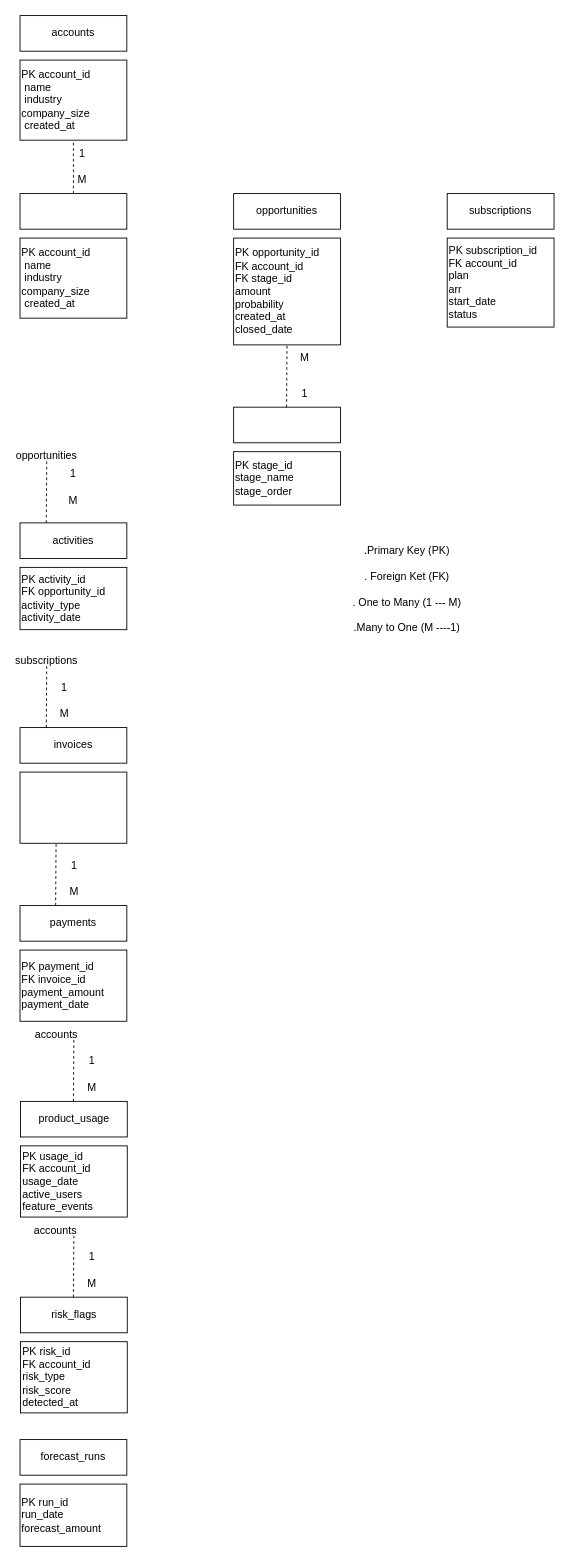
This 570x1562 diagram has some shape labels left out. The shapes that lost their labels are listed below. From the top down, each one's centre as x and y in pixels, then its label:
the point at 73,211: contacts
the point at 286,424: stages
the point at 73,807: PK invoice_id FK subscription_id invoice_amount invoice_date status
